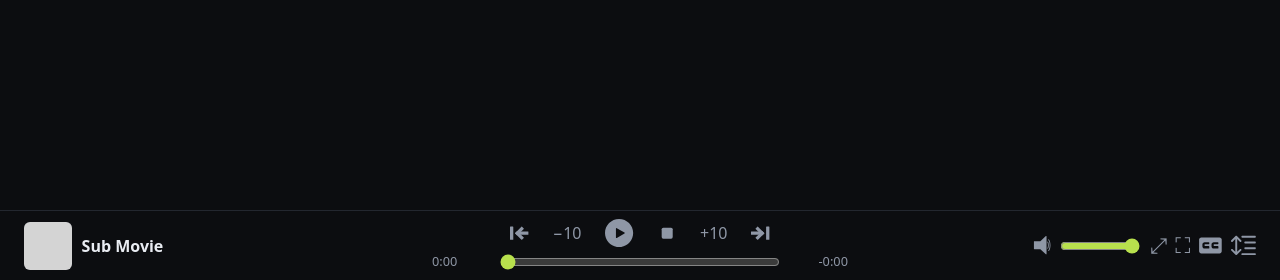
NowPlayingBar — captions menu › lists Off + text tracks + image tracks (image marked burn-in), slice 04
The image size is (1280, 280).
Click the 1st button with test id "now-playing-captions": [1211, 246] box left=1198, top=233, right=1223, bottom=258
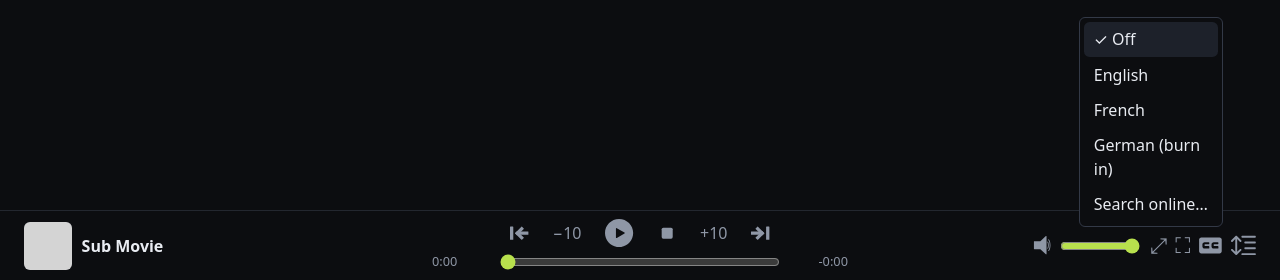
Check: the menu with test id "now-playing-captions-menu" is shown, box left=1079, top=17, right=1223, bottom=227
Check: the menu item with test id "captions-off" is shown, box left=1084, top=22, right=1218, bottom=57
Check: the menu with test id "now-playing-captions-menu" shows "English", box left=1084, top=57, right=1218, bottom=92
